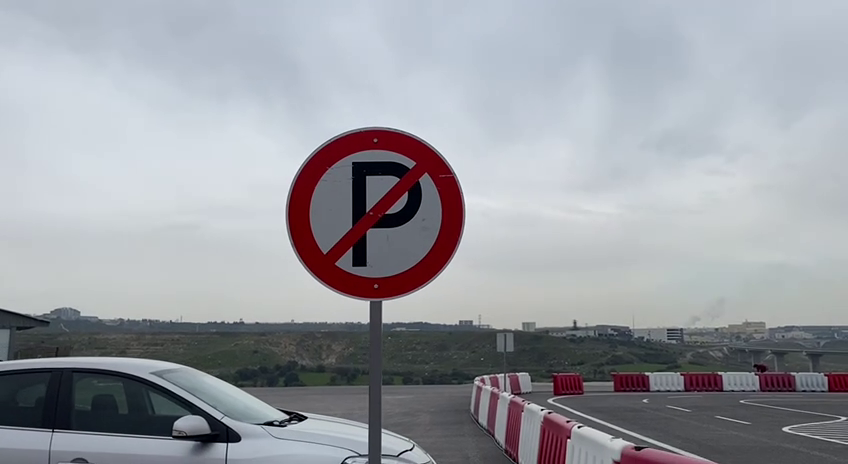noparking: (274, 111, 477, 315)
